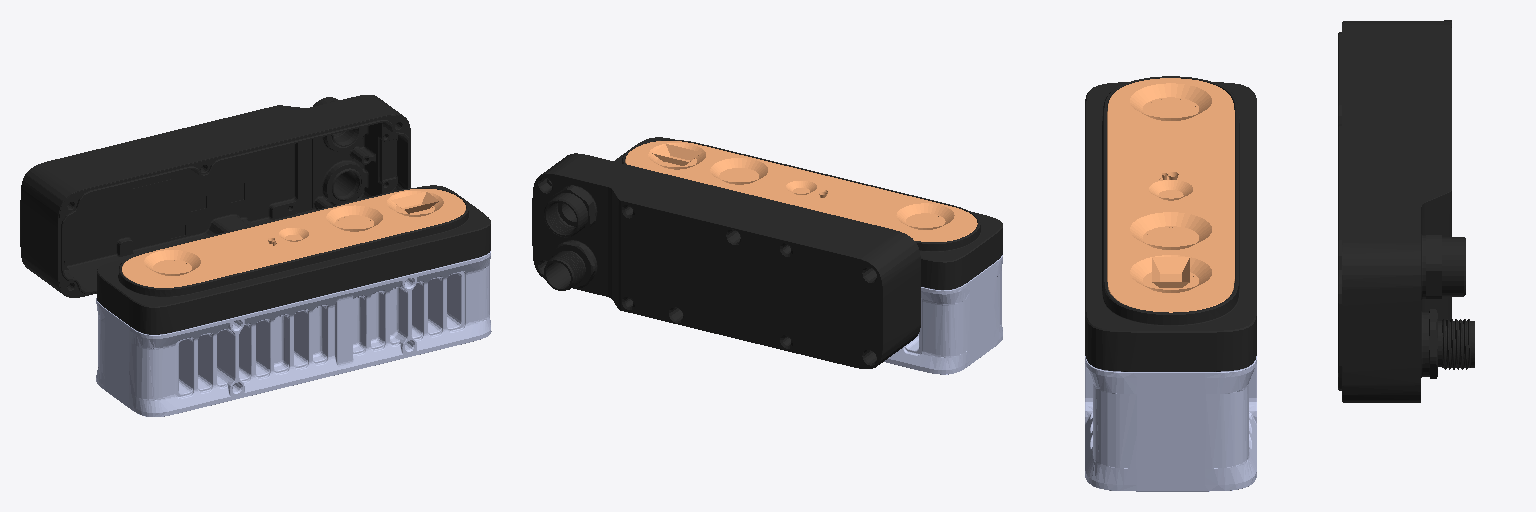
URDF robot description (gemini_435le_description):
<?xml version="1.0" encoding="utf-8"?>
<!-- This URDF was automatically created by SolidWorks to URDF Exporter! Originally created by [author] ([email redacted]) 
     Commit Version: 1.6.0-4-g7f85cfe  Build Version: 1.6.7995.38578
     For more information, please see http://wiki.ros.org/sw_urdf_exporter -->
<robot
  name="gemini_435le_description">
  <link
    name="base_link">
    <inertial>
      <origin
        xyz="-0.0034461 -3.1059E-05 -0.046035"
        rpy="0 0 0" />
      <mass
        value="0.04723" />
      <inertia
        ixx="1.0825E-05"
        ixy="2.669E-07"
        ixz="-2.7998E-06"
        iyy="7.9491E-05"
        iyz="-1.9919E-08"
        izz="8.5707E-05" />
    </inertial>
    <visual>
      <origin
        xyz="0 0 0"
        rpy="0 0 0" />
      <geometry>
        <mesh
          filename="package://gemini_435le_description/meshes/base_link.STL" />
      </geometry>
      <material
        name="">
        <color
          rgba="0.2 0.2 0.2 1" />
      </material>
    </visual>
    <collision>
      <origin
        xyz="0 0 0"
        rpy="0 0 0" />
      <geometry>
        <mesh
          filename="package://gemini_435le_description/meshes/base_link.STL" />
      </geometry>
    </collision>
  </link>
  <link
    name="heat_sink_link">
    <inertial>
      <origin
        xyz="-0.0016472 -7.9879E-05 -0.022592"
        rpy="0 0 0" />
      <mass
        value="0.069175" />
      <inertia
        ixx="1.4863E-05"
        ixy="2.9943E-07"
        ixz="-5.9873E-07"
        iyy="0.00013721"
        iyz="6.9814E-09"
        izz="0.00014114" />
    </inertial>
    <visual>
      <origin
        xyz="0 0 0"
        rpy="0 0 0" />
      <geometry>
        <mesh
          filename="package://gemini_435le_description/meshes/heat_sink_link.STL" />
      </geometry>
      <material
        name="">
        <color
          rgba="0.79216 0.81961 0.93333 1" />
      </material>
    </visual>
    <collision>
      <origin
        xyz="0 0 0"
        rpy="0 0 0" />
      <geometry>
        <mesh
          filename="package://gemini_435le_description/meshes/heat_sink_link.STL" />
      </geometry>
    </collision>
  </link>
  <joint
    name="base_link_2_heat_sink"
    type="fixed">
    <origin
      xyz="5E-05 -0.011351 -5E-05"
      rpy="0 0 0" />
    <parent
      link="base_link" />
    <child
      link="heat_sink_link" />
    <axis
      xyz="0 0 0" />
  </joint>
  <link
    name="front_link">
    <inertial>
      <origin
        xyz="0.0015264 4.6692E-06 -0.0059501"
        rpy="0 0 0" />
      <mass
        value="0.018431" />
      <inertia
        ixx="4.3379E-06"
        ixy="9.0655E-08"
        ixz="-2.3951E-08"
        iyy="3.731E-05"
        iyz="-4.8885E-10"
        izz="4.1165E-05" />
    </inertial>
    <visual>
      <origin
        xyz="0 0 0"
        rpy="0 0 0" />
      <geometry>
        <mesh
          filename="package://gemini_435le_description/meshes/front_link.STL" />
      </geometry>
      <material
        name="">
        <color
          rgba="0.2 0.2 0.2 1" />
      </material>
    </visual>
    <collision>
      <origin
        xyz="0 0 0"
        rpy="0 0 0" />
      <geometry>
        <mesh
          filename="package://gemini_435le_description/meshes/front_link.STL" />
      </geometry>
    </collision>
  </link>
  <joint
    name="heat_sink_to_front_link"
    type="fixed">
    <origin
      xyz="0 0 0.00435"
      rpy="0 0 0" />
    <parent
      link="heat_sink_link" />
    <child
      link="front_link" />
    <axis
      xyz="0 0 0" />
  </joint>
  <link
    name="lens_link">
    <inertial>
      <origin
        xyz="-3.8833E-05 7.8201E-08 -0.00044993"
        rpy="0 0 0" />
      <mass
        value="0.0025573" />
      <inertia
        ixx="1.8082E-07"
        ixy="1.0025E-11"
        ixz="-4.7611E-15"
        iyy="3.2765E-06"
        iyz="-3.0109E-13"
        izz="3.4571E-06" />
    </inertial>
    <visual>
      <origin
        xyz="0 0 0"
        rpy="0 0 0" />
      <geometry>
        <mesh
          filename="package://gemini_435le_description/meshes/lens_link.STL" />
      </geometry>
      <material
        name="">
        <color
          rgba="1 0.72941 0.52941 1" />
      </material>
    </visual>
    <collision>
      <origin
        xyz="0 0 0"
        rpy="0 0 0" />
      <geometry>
        <mesh
          filename="package://gemini_435le_description/meshes/lens_link.STL" />
      </geometry>
    </collision>
  </link>
  <joint
    name="front_link_to_lens_link"
    type="fixed">
    <origin
      xyz="0 0 0"
      rpy="0 0 0" />
    <parent
      link="front_link" />
    <child
      link="lens_link" />
    <axis
      xyz="0 0 0" />
  </joint>
</robot>

--- Facts derived from the render (not from the file) ---
Views: 3 orthographic renders of the robot side by side, from view 1: azimuth 30°, elevation 25°; view 2: azimuth 150°, elevation 25°; view 3: azimuth 270°, elevation 25°.
Robot: gemini_435le_description — 4 links, 3 joints (3 fixed); root link base_link; default pose: every joint at zero.
Visible links, largest first — view 1: base_link, heat_sink_link, front_link, lens_link; view 2: base_link, lens_link, heat_sink_link, front_link; view 3: base_link, lens_link, front_link, heat_sink_link.
Link boxes in pixels (bbox=[...]): base_link: bbox=[20, 95, 410, 297]; heat_sink_link: bbox=[96, 251, 491, 416]; front_link: bbox=[97, 185, 490, 334]; lens_link: bbox=[122, 189, 465, 287]; base_link: bbox=[532, 153, 920, 368]; lens_link: bbox=[625, 141, 977, 241]; heat_sink_link: bbox=[884, 255, 1002, 374]; front_link: bbox=[614, 137, 1002, 289]; base_link: bbox=[1338, 20, 1474, 402]; lens_link: bbox=[1107, 78, 1234, 312]; front_link: bbox=[1085, 76, 1256, 371]; heat_sink_link: bbox=[1085, 356, 1256, 491].
Size in the robot's own frame: 0.1384 by 0.0914 by 0.0635 metres.
4 mesh visuals loaded from 4 distinct referenced files (4 binary STL).